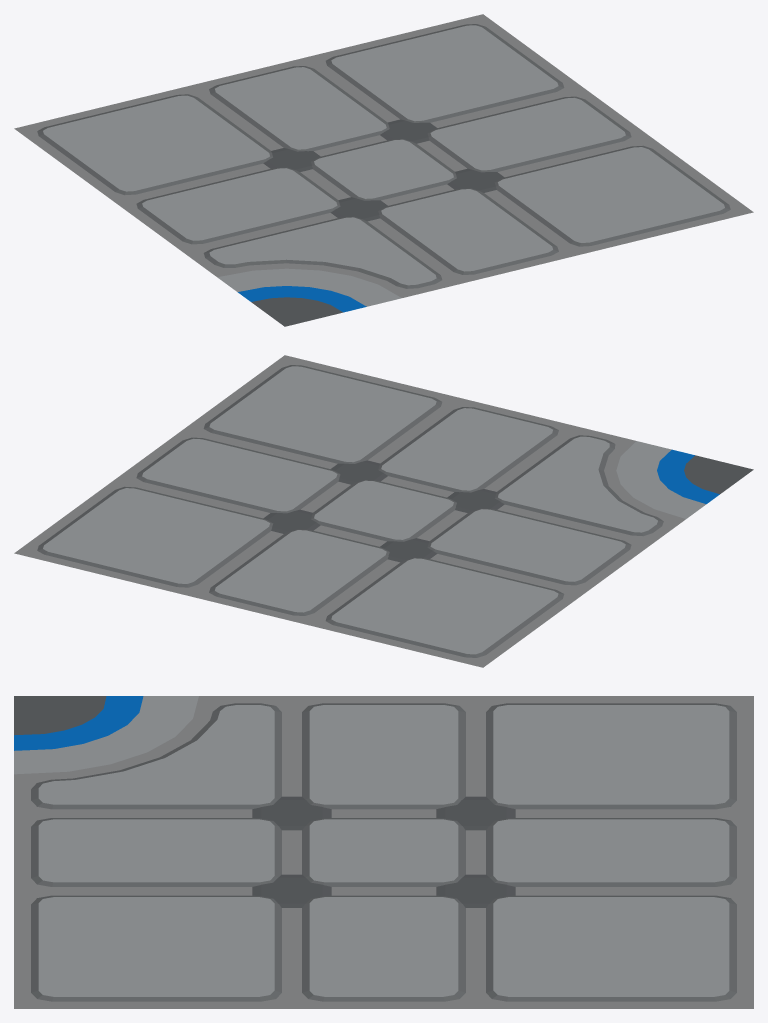
Rendered from Floor_type_B_022.fbx.
3 renders of one model, top to bottom at view 1: azimuth 30°, elevation 25°; view 2: azimuth 150°, elevation 25°; view 3: azimuth 270°, elevation 25°, orthographic. The views are drawn at different scales.
Parts seen in each view (by area): view 1: Floor_type_B_022; view 2: Floor_type_B_022; view 3: Floor_type_B_022.
Boxes of the visible parts, x1,y1,x2,y2 form: Floor_type_B_022: (14, 14, 753, 326); Floor_type_B_022: (14, 355, 753, 667); Floor_type_B_022: (14, 696, 753, 1008).
Bounding box in the file's own units: 400 × 400 × 1.34.
